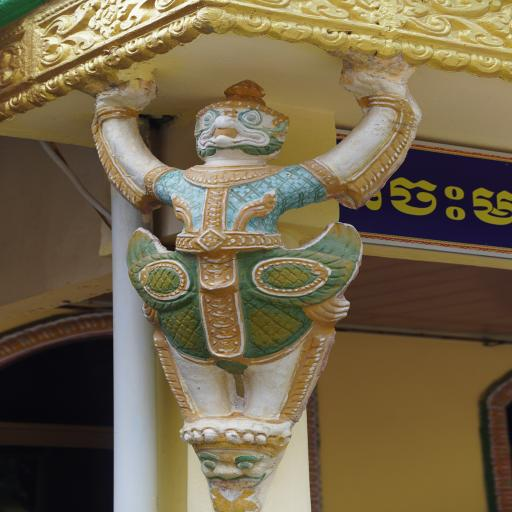than: (67, 50, 435, 512)
